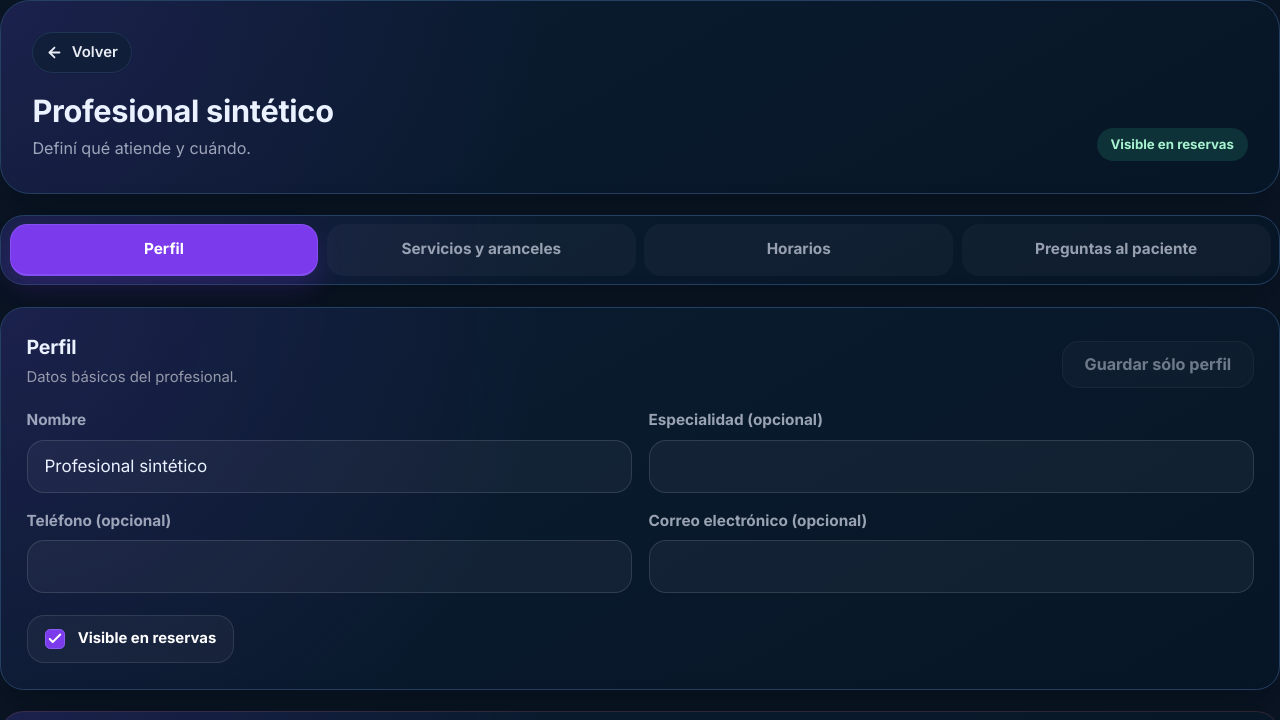
Test: professional editor cross-task coordination › does not mark edits made during a submitted profile save as persisted
Replace the text in the field labelled "Nombre" with "Primera edición" at [329, 466], box [26,440,632,493]
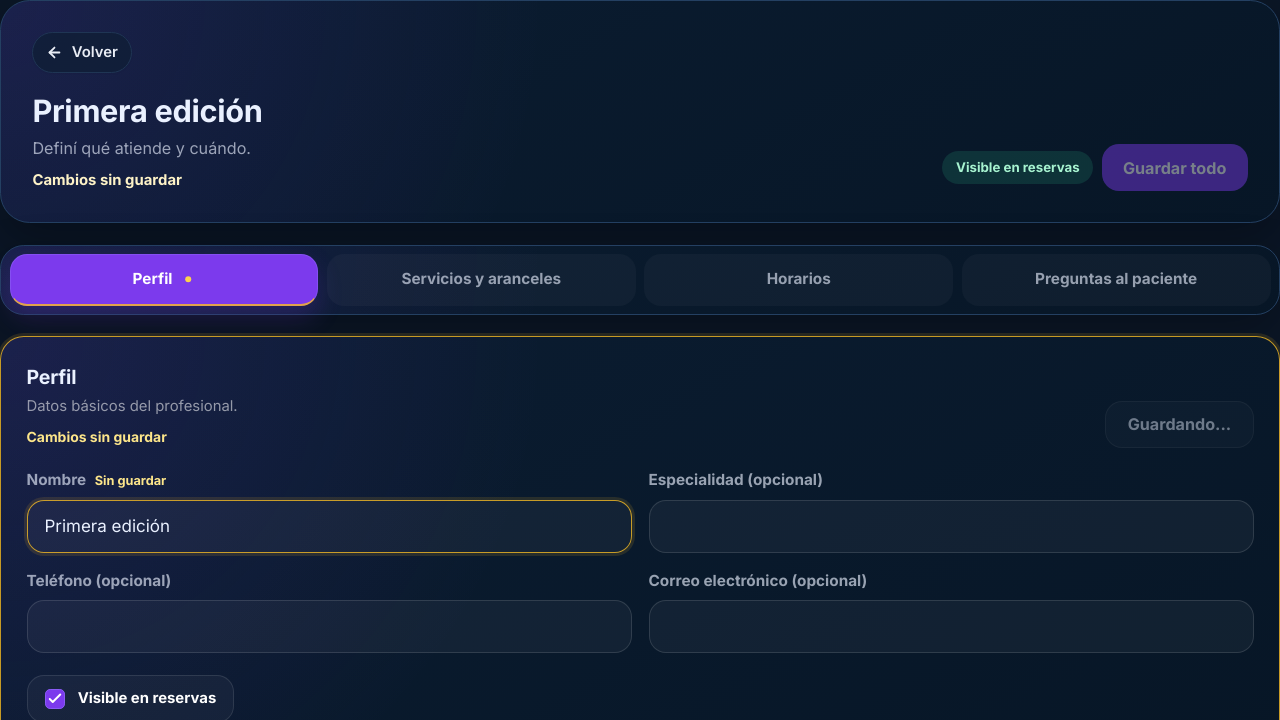
Replace the text in the field labelled "Nombre" with "Segunda edición durante la espera" at [329, 526], box [26,500,632,553]
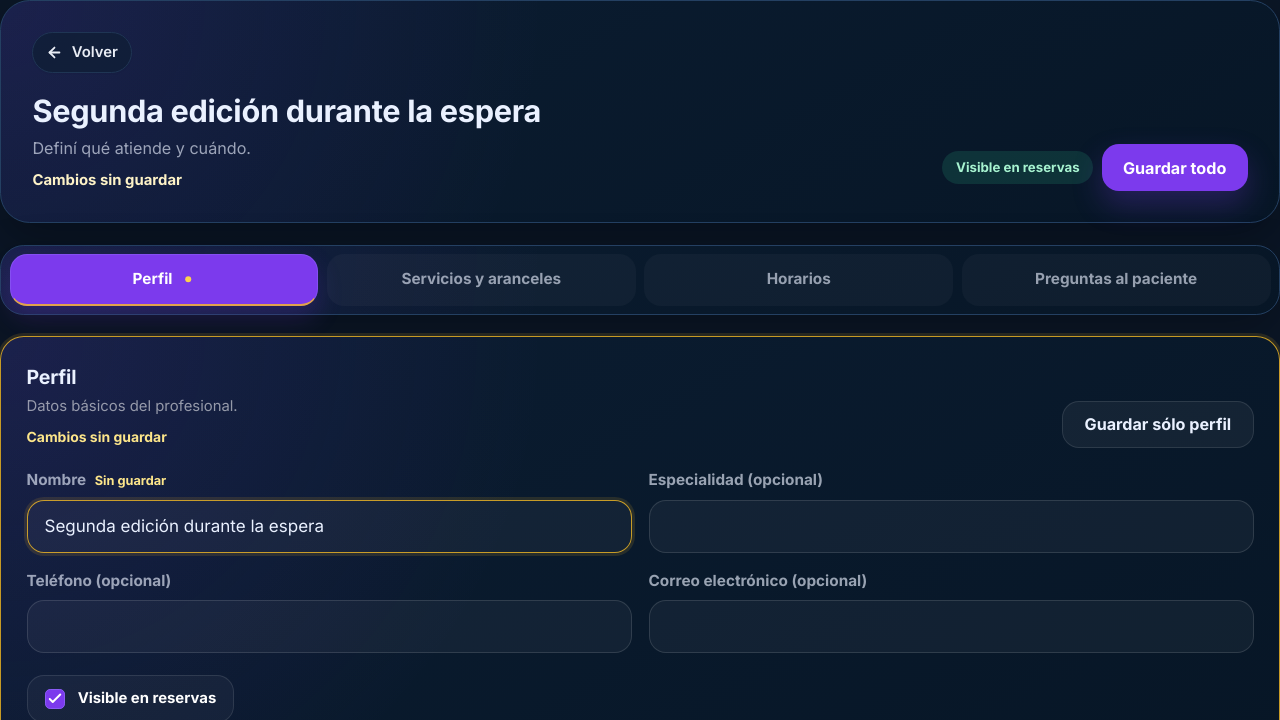
Expected: the text "Cambios sin guardar" below "Definí qué atiende y cuándo." is shown, [32,171,182,189]
Expected: the icon in the row of "Preguntas al paciente" is shown, [181,272,195,287]
Expected: the button "Guardar sólo perfil" is enabled, [1062,401,1254,448]
